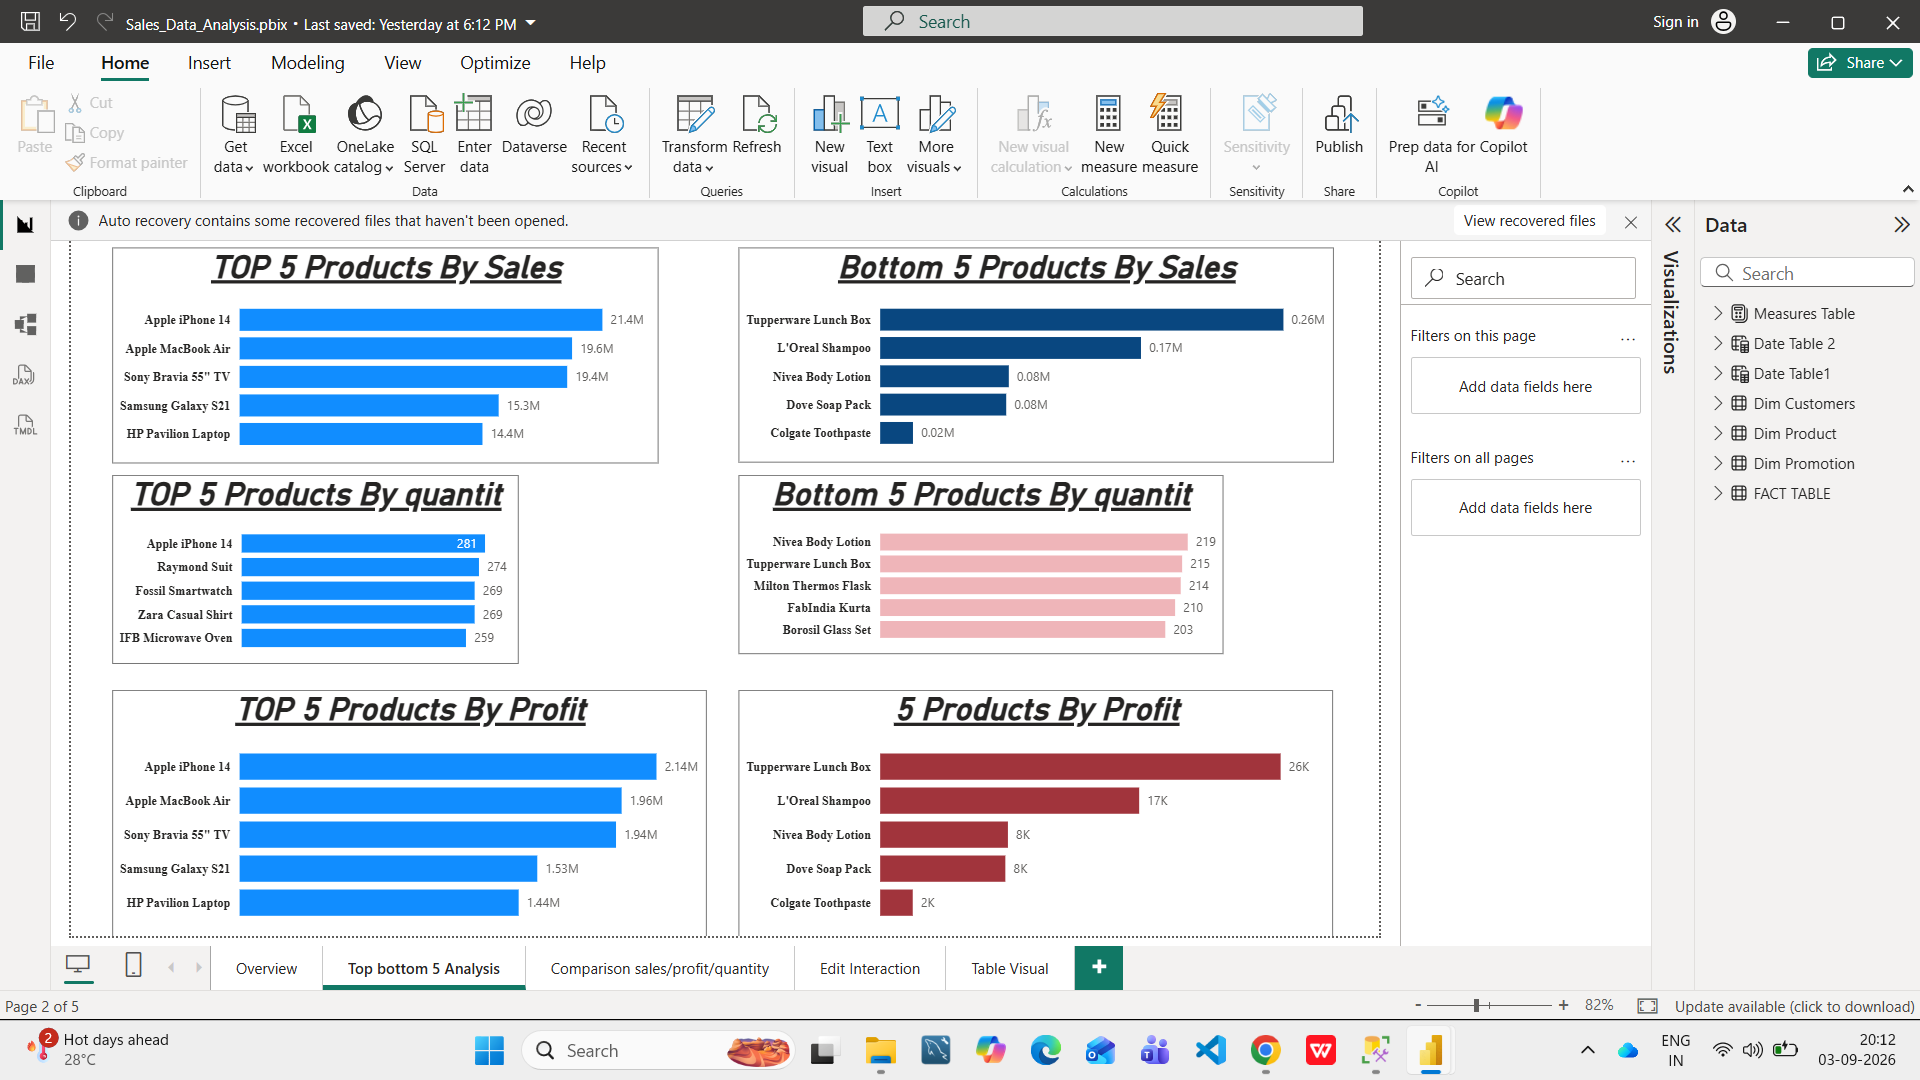

The page's visual inventory and layout, read from the dashboard file:
{"tool":"powerbi","page":{"name":"Top bottom 5 Analysis","canvas":[1280,720],"ordinal":1},"visuals":[{"type":"barChart","title":"TOP 5 Products By Sales","fields":{"Category":["Dim Product.Product Name"],"Y":["Sum(FACT TABLE.Net sales  )"]},"box":[40.4,46.5,534.4,211.6],"z":0},{"type":"barChart","title":"Bottom 5 Products By Sales","fields":{"Category":["Dim Product.Product Name"],"Y":["Sum(FACT TABLE.Net sales  )"]},"box":[653,46.5,582.1,210.3],"z":1000},{"type":"barChart","title":"TOP 5 Products By quantit","fields":{"Category":["Dim Product.Product Name"],"Y":["Sum(FACT TABLE.Units Sold)"]},"box":[40.4,269,397.4,184.6],"z":2000},{"type":"barChart","title":"Bottom 5 Products By quantit","fields":{"Category":["Dim Product.Product Name"],"Y":["Sum(FACT TABLE.Units Sold)"]},"box":[653,269,474.5,174.9],"z":3000},{"type":"barChart","title":"TOP 5 Products By Profit","fields":{"Category":["Dim Product.Product Name"],"Y":["Sum(FACT TABLE.Profit column)"]},"box":[39.8,478.9,581.8,241.5],"z":4000},{"type":"barChart","title":" 5 Products By Profit","fields":{"Category":["Dim Product.Product Name"],"Y":["Sum(FACT TABLE.Profit column)"]},"box":[653.2,478.9,581.8,241.5],"z":5000}]}

Visuals, with their boxes on the page's 1280x720 design canvas (x1, y1, x2, y2). These are canvas units, not pixel positions in the 1920x1080 screenshot, which may show the page scaled, cropped or inside an application window:
"TOP 5 Products By Sales" barChart: box(40, 46, 575, 258)
"Bottom 5 Products By Sales" barChart: box(653, 46, 1235, 257)
"TOP 5 Products By quantit" barChart: box(40, 269, 438, 454)
"Bottom 5 Products By quantit" barChart: box(653, 269, 1128, 444)
"TOP 5 Products By Profit" barChart: box(40, 479, 622, 720)
" 5 Products By Profit" barChart: box(653, 479, 1235, 720)
